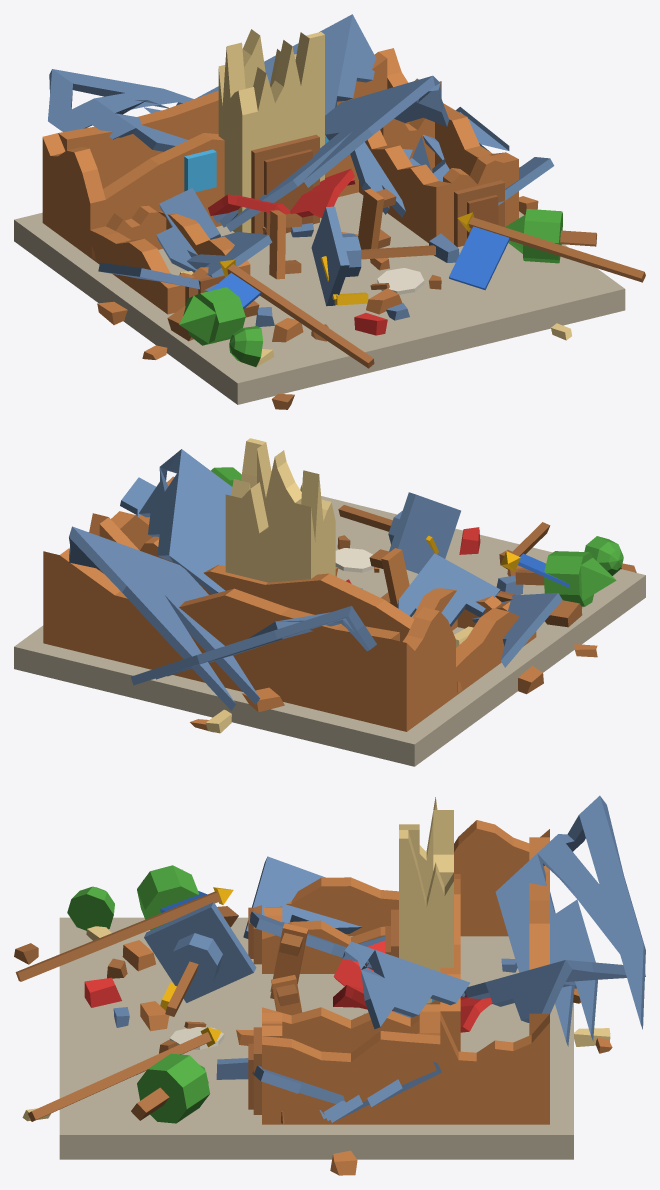
The model's file is university_t2_v2_dmg2.glb.
3 renders of one model, top to bottom at view 1: azimuth 30°, elevation 25°; view 2: azimuth 150°, elevation 25°; view 3: azimuth 270°, elevation 25°, orthographic. The views are drawn at different scales.
Visible parts, largest first — view 1: university_t2_v2_dmg2; view 2: university_t2_v2_dmg2; view 3: university_t2_v2_dmg2.
Part boxes in pixels (x1,y1,x2,y2): university_t2_v2_dmg2: [14, 14, 645, 409]; university_t2_v2_dmg2: [14, 438, 645, 766]; university_t2_v2_dmg2: [14, 795, 645, 1175].
Size of the model in its own units: 0.8632 by 0.3798 by 0.9215.
1 material, 1 textured.
